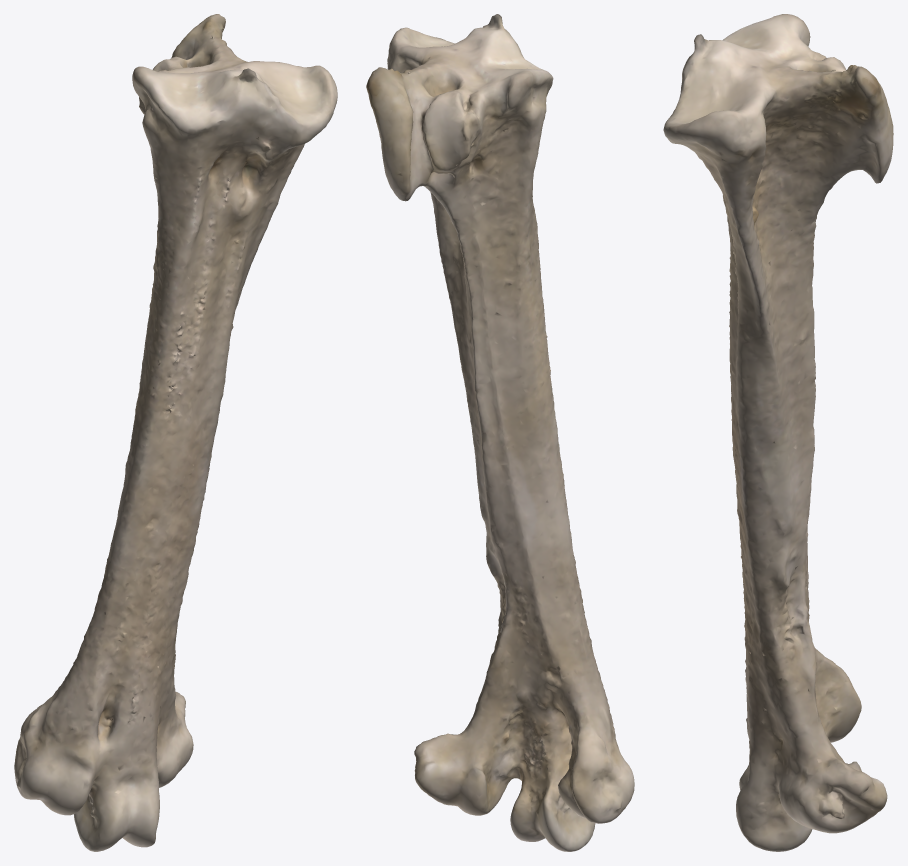
The model's file is Tarsometatarsus_re_Taube.fbx.
The picture shows the model from 3 angles, left to right: view 1: azimuth 30°, elevation 25°; view 2: azimuth 150°, elevation 25°; view 3: azimuth 270°, elevation 25°; orthographic projection. The views are drawn at different scales.
Parts seen in each view (by area): view 1: Tarsometatarsus_re_Taube.001; view 2: Tarsometatarsus_re_Taube.001; view 3: Tarsometatarsus_re_Taube.001.
Part boxes in pixels (x1=…): Tarsometatarsus_re_Taube.001: x1=14, y1=14, x2=337, y2=851; Tarsometatarsus_re_Taube.001: x1=366, y1=14, x2=634, y2=851; Tarsometatarsus_re_Taube.001: x1=663, y1=14, x2=893, y2=851.
Size of the model in its own units: 1290 by 3552 by 867.
